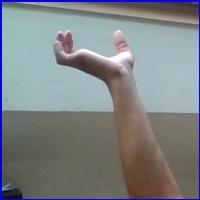B: (50, 23, 140, 83)
